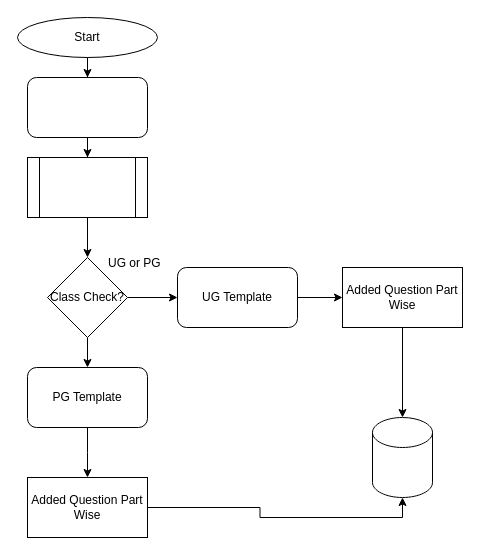
Some shapes in this 480 by 555 pixel diagram are drawn without their labels. Each missing label, with the box of its shape:
Data Base: (372, 416, 432, 498)
Faculty CoPo Dashboard: (26, 76, 148, 138)
Question Paper Template: (26, 156, 148, 218)
